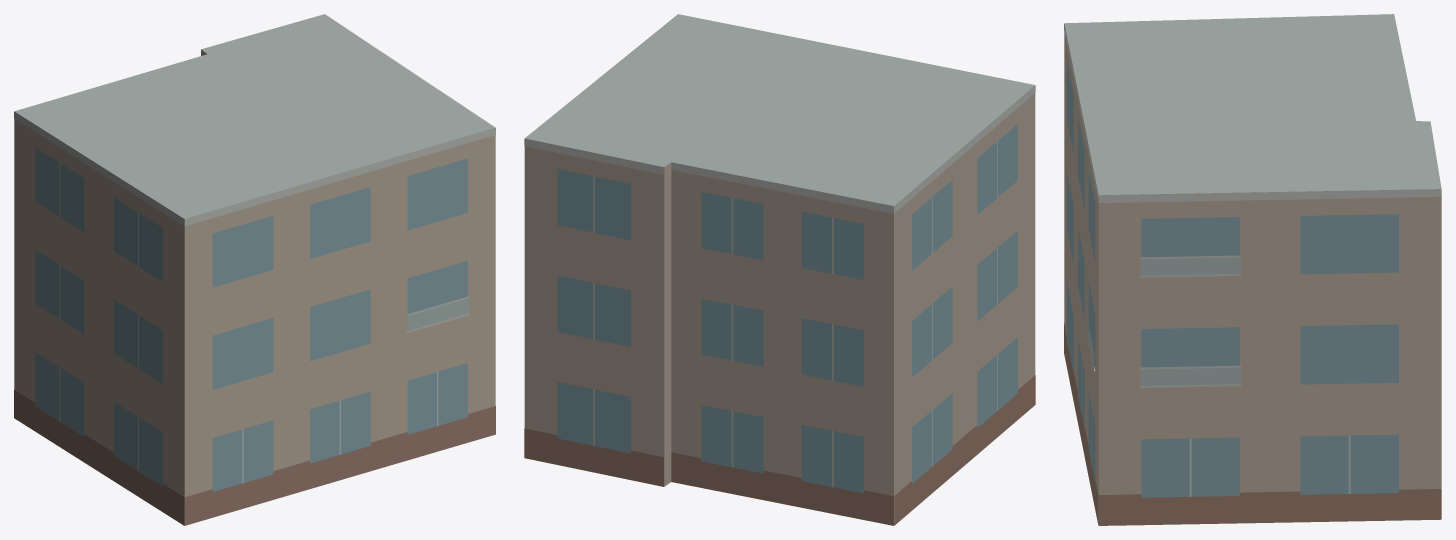
The model's file is survey-upis-32918066.glb.
The picture shows the model from 3 angles, left to right: view 1: azimuth 30°, elevation 25°; view 2: azimuth 150°, elevation 25°; view 3: azimuth 270°, elevation 25°; orthographic projection. The views are drawn at different scales.
Parts seen in each view (by area): view 1: survey-upis-32918066.tmp; view 2: survey-upis-32918066.tmp; view 3: survey-upis-32918066.tmp.
Boxes of the visible parts, x1,y1,x2,y2 form: survey-upis-32918066.tmp: (14,14,495,525); survey-upis-32918066.tmp: (524,14,1035,525); survey-upis-32918066.tmp: (1064,14,1441,525).
Size of the model in its own units: 12 by 10.2 by 10.56.
